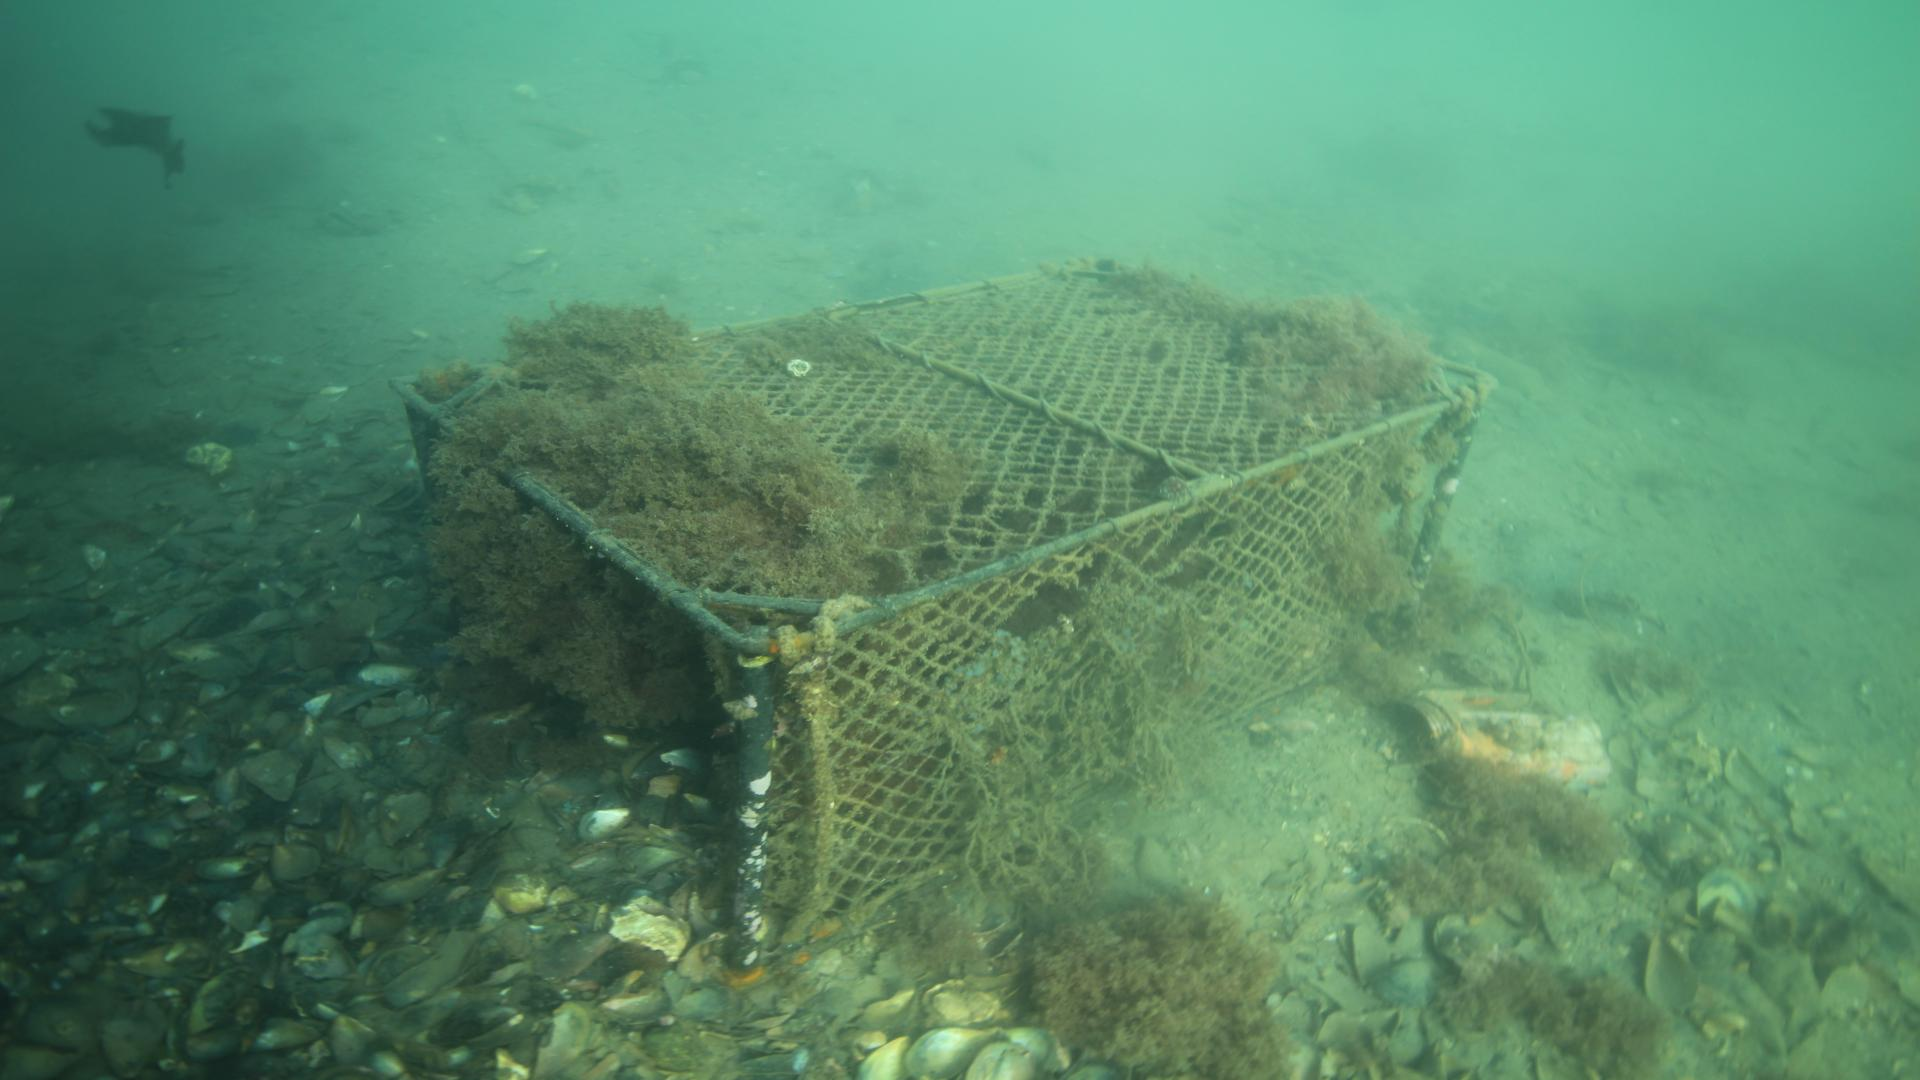rectangular fish trap: (389, 251, 1503, 1000)
